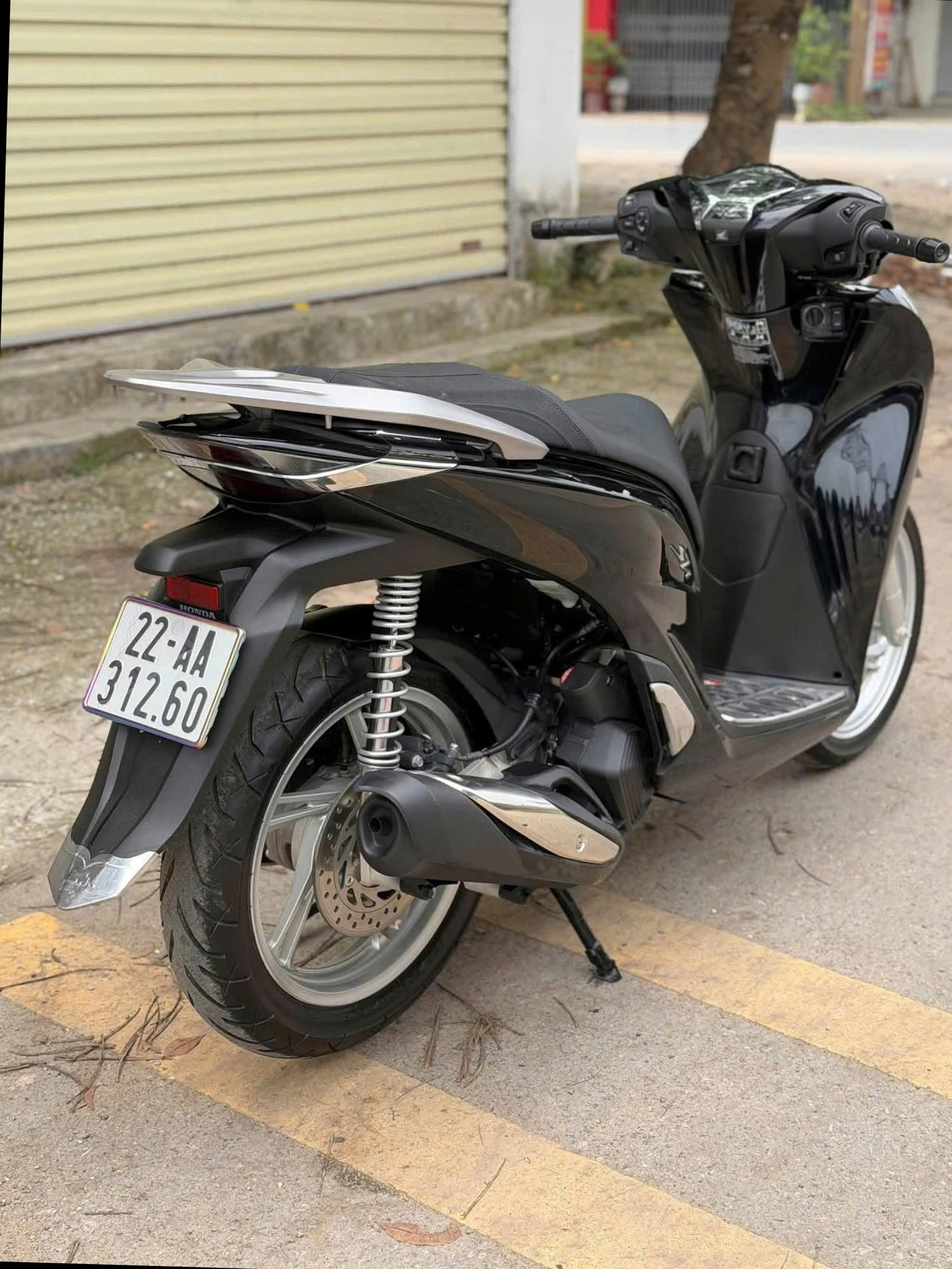Bien-so: (85, 566, 248, 714)
